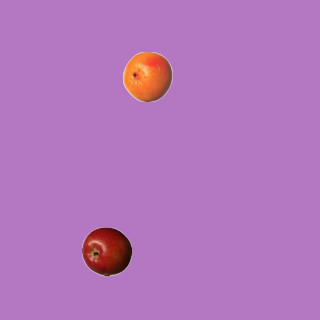Apple Braeburn: (81, 226, 131, 276)
Grapefruit Pink: (122, 51, 172, 101)
